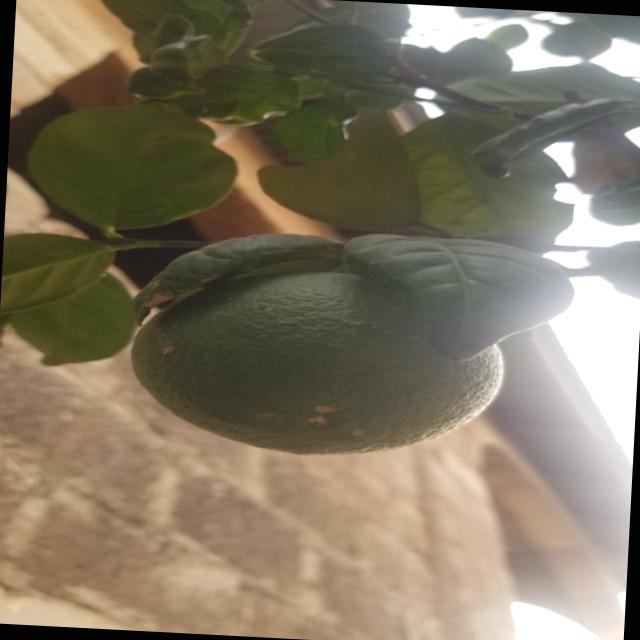Unripe: (113, 264, 524, 485)
